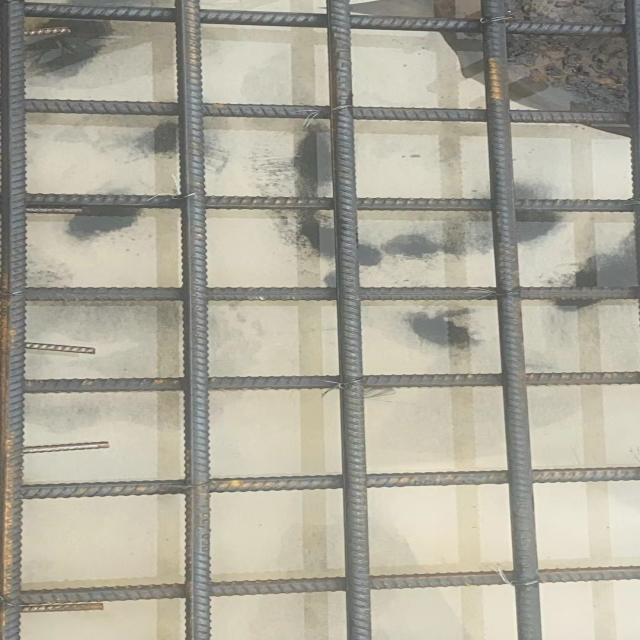ribbed bar: (481, 0, 542, 639), (325, 0, 371, 639), (175, 0, 213, 639), (23, 566, 639, 603), (24, 3, 639, 38), (21, 466, 639, 500), (24, 98, 639, 124), (24, 370, 639, 395), (0, 0, 23, 639), (27, 193, 639, 213), (24, 286, 639, 304)
